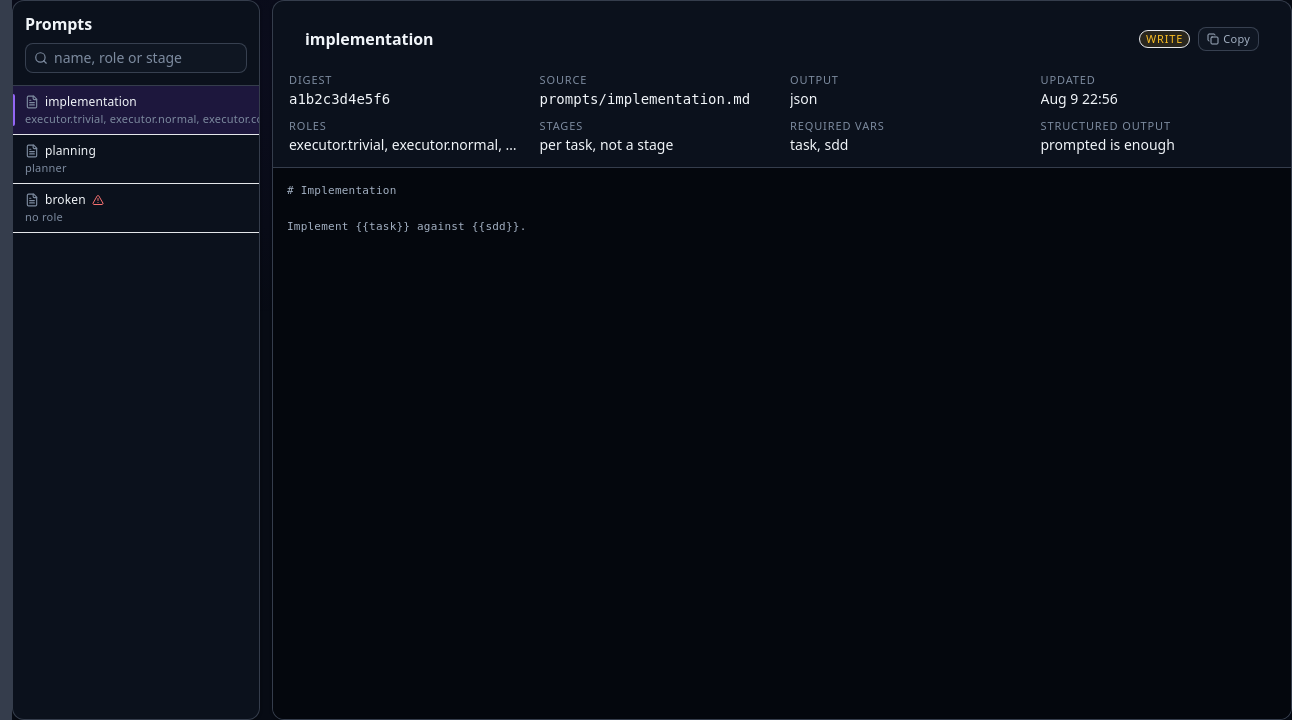
Scenario: the prompt viewer › switches prompt when another is chosen
Expected: the text "# Implementation Implement {{task}} against {{sdd}}." is shown, [287,184,526,233]
Click the button "planning planner" at coordinates (136, 160), box [13,135,259,184]
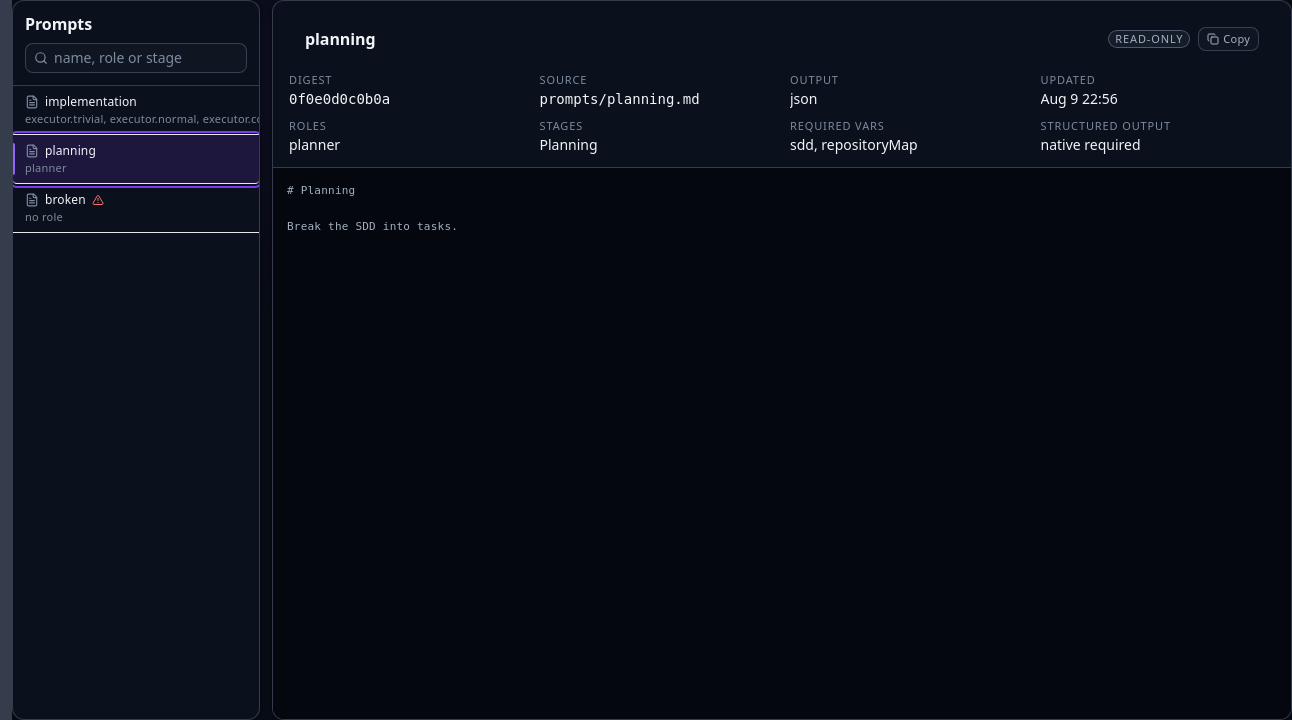
Expected: the text "# Planning Break the SDD into tasks." is shown, [287,184,458,233]
Expected: the text "0f0e0d0c0b0a" is shown, [289,91,390,107]
